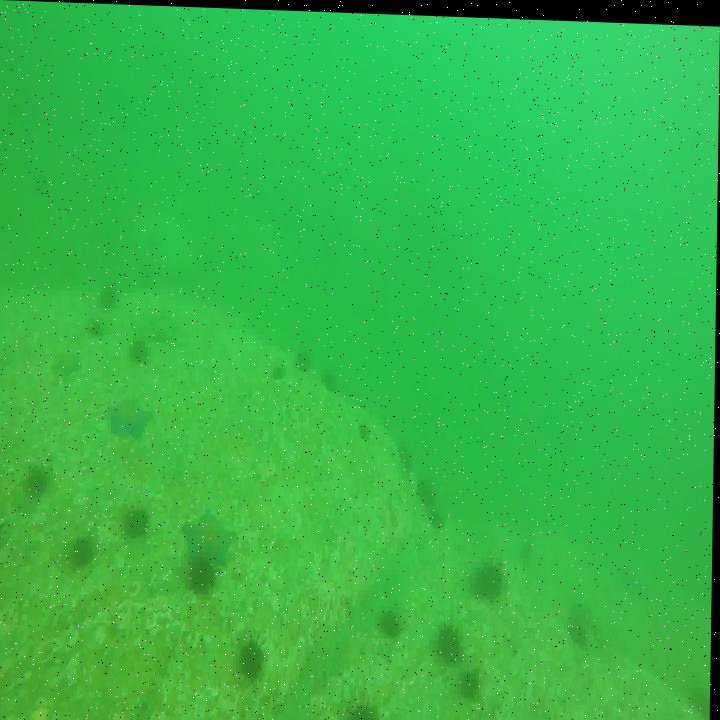echinus: (471, 548, 508, 600), (435, 618, 470, 667), (241, 633, 270, 684), (186, 554, 218, 595), (126, 498, 154, 540), (380, 605, 408, 639), (460, 665, 487, 700), (127, 332, 154, 366), (26, 467, 55, 498), (72, 534, 101, 565), (293, 344, 319, 375), (417, 472, 438, 508), (347, 700, 384, 720), (393, 436, 413, 471), (321, 365, 344, 394), (99, 286, 120, 317), (427, 494, 448, 525), (270, 361, 292, 380), (358, 415, 373, 439), (92, 316, 106, 334)
starfish: (181, 509, 238, 569), (107, 395, 155, 442), (51, 345, 85, 382)
